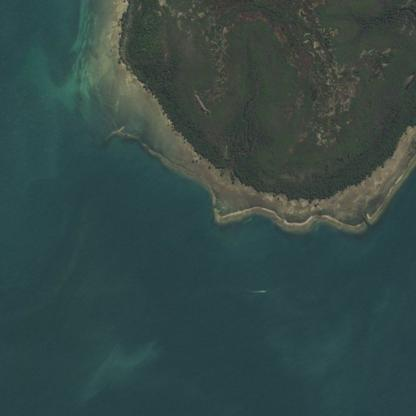ship: (258, 283, 268, 297)
